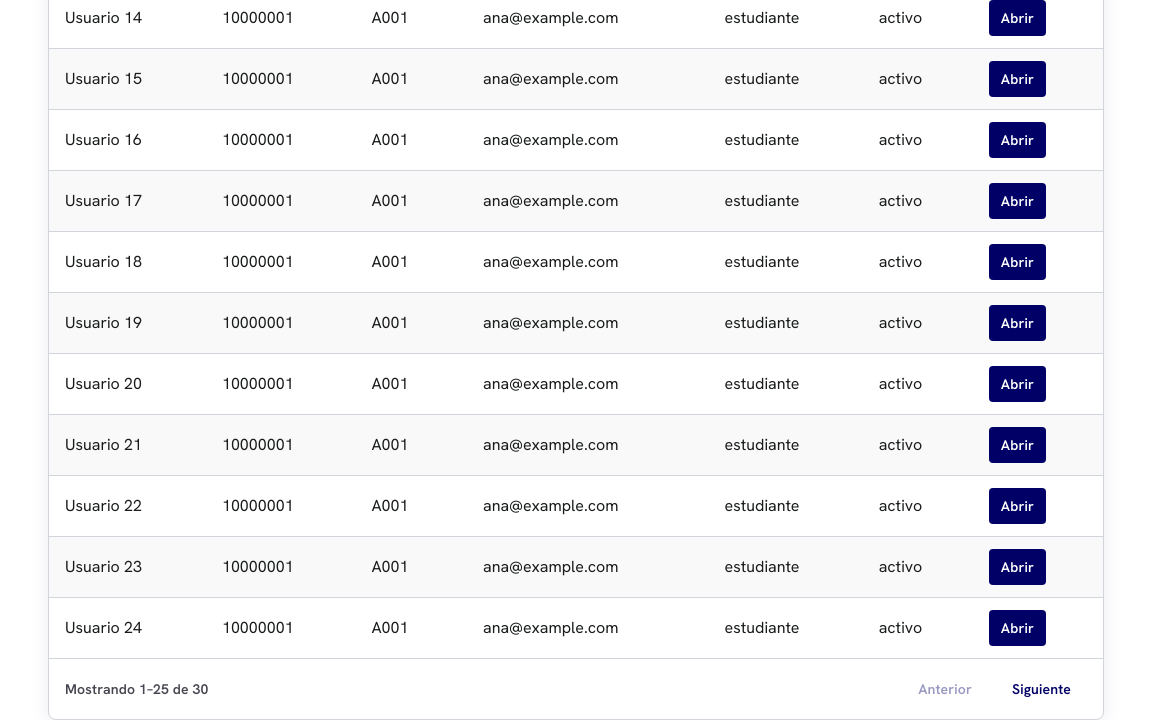
UsuariosPage › [11.1] pagina 25 filas por página con pie "Mostrando" y anterior/siguiente
This screenshot has width=1152, height=720.
(page scrolled)
Expected: the text "Mostrando 1–25 de 30" is shown, [65,679,208,699]
Expected: the text "Usuario 25" is not shown
Click the button "Siguiente" at (1042, 689), box [996,671,1087,707]
(page scrolled)
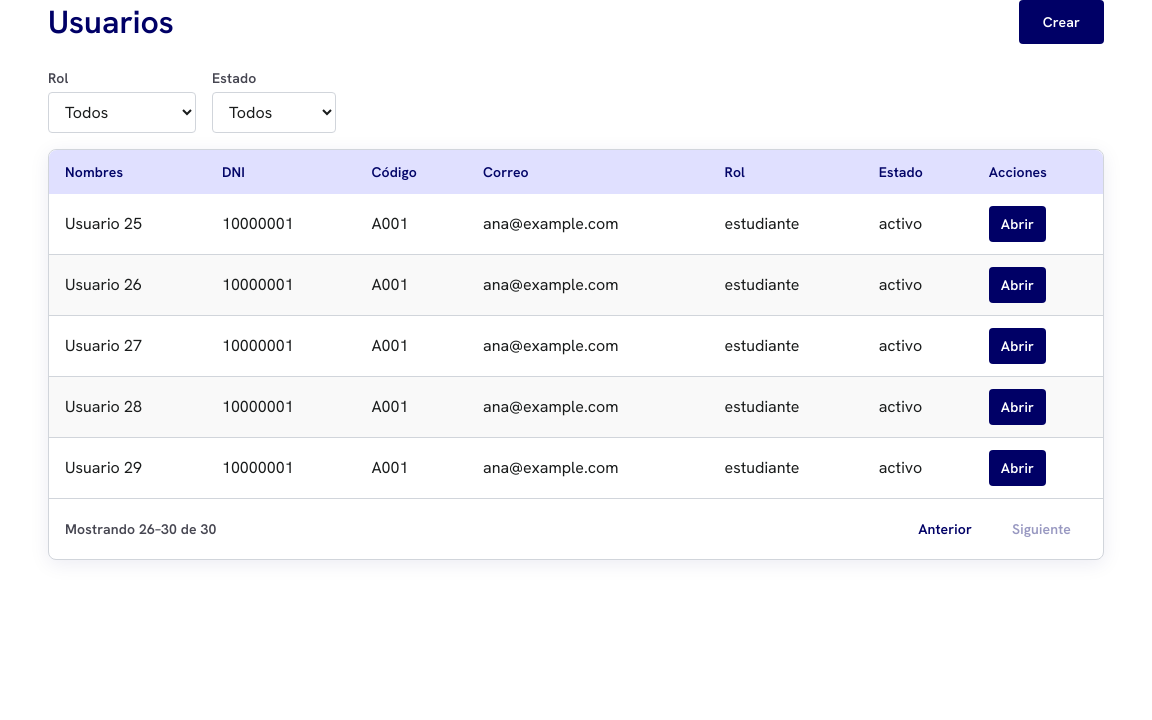
Result: the text "Usuario 25" is shown at [49,194,206,254]
Result: the text "Mostrando 26–30 de 30" is shown at [65,519,216,539]
